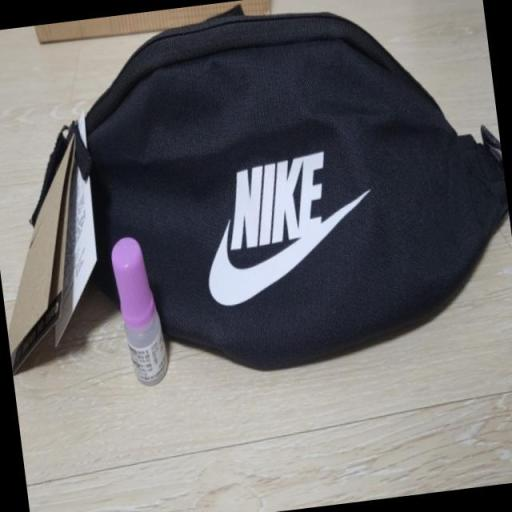Nike: (202, 212, 354, 310), (220, 148, 338, 250)
